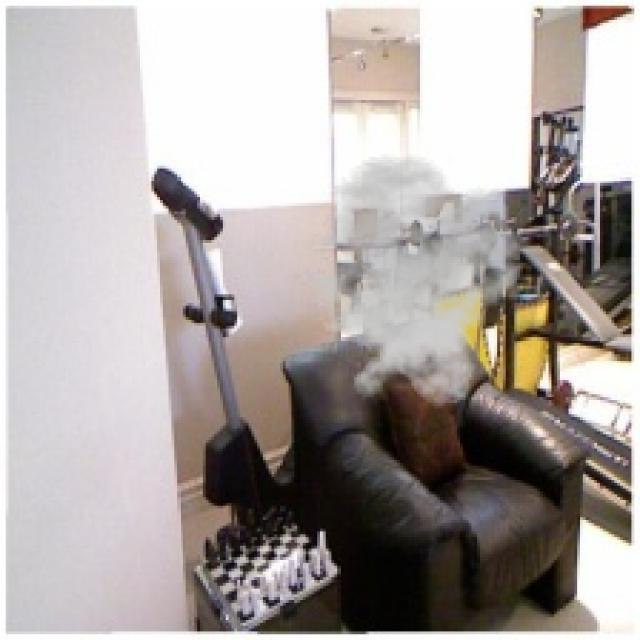Smoke: (286, 154, 538, 409)
